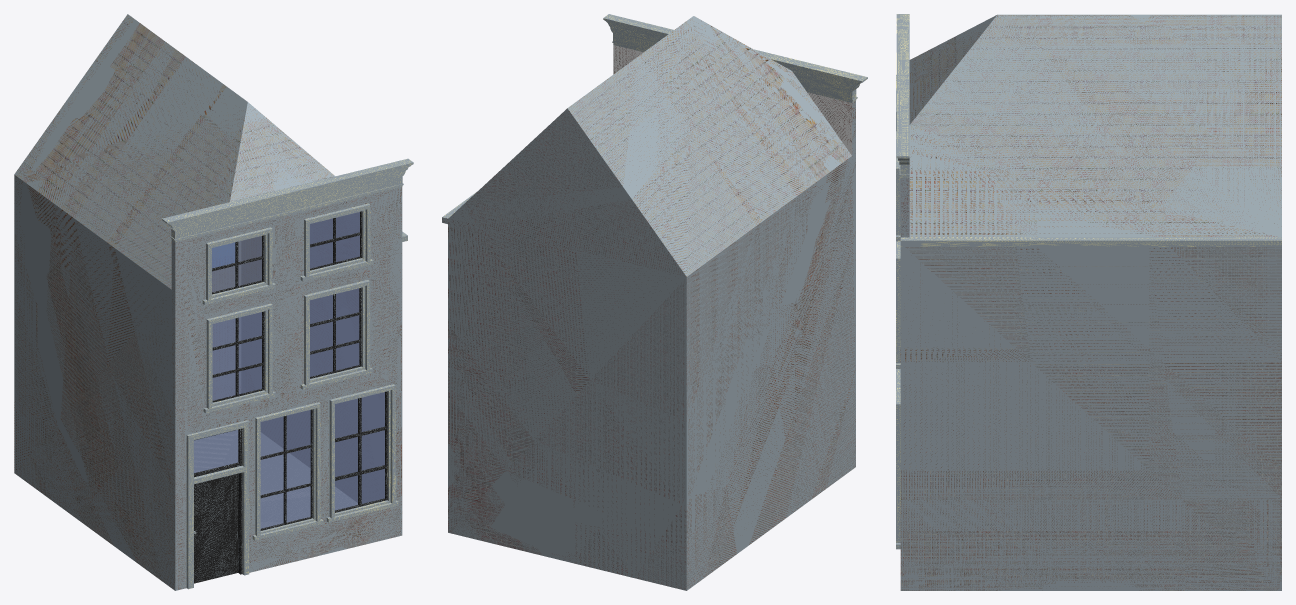
The model's file is House5.fbx.
3 renders of one model, left to right at view 1: azimuth 30°, elevation 25°; view 2: azimuth 150°, elevation 25°; view 3: azimuth 270°, elevation 25°, orthographic. The views are drawn at different scales.
Parts seen in each view (by area): view 1: Group1; view 2: Group1; view 3: Group1.
Boxes of the visible parts, box(x1,y1,x2,y2) form: Group1: box(14, 14, 413, 590); Group1: box(442, 14, 867, 590); Group1: box(896, 14, 1281, 590).
Bounding box in the file's own units: 214 × 358 × 245.
